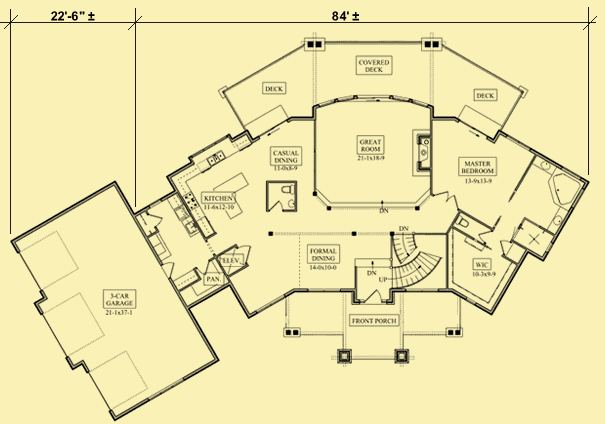door: (495, 239, 516, 256), (267, 199, 286, 214)
stairs: (390, 233, 443, 291)
tub: (549, 167, 587, 212)
twin_sink: (204, 148, 226, 167)
window: (319, 93, 429, 111)
